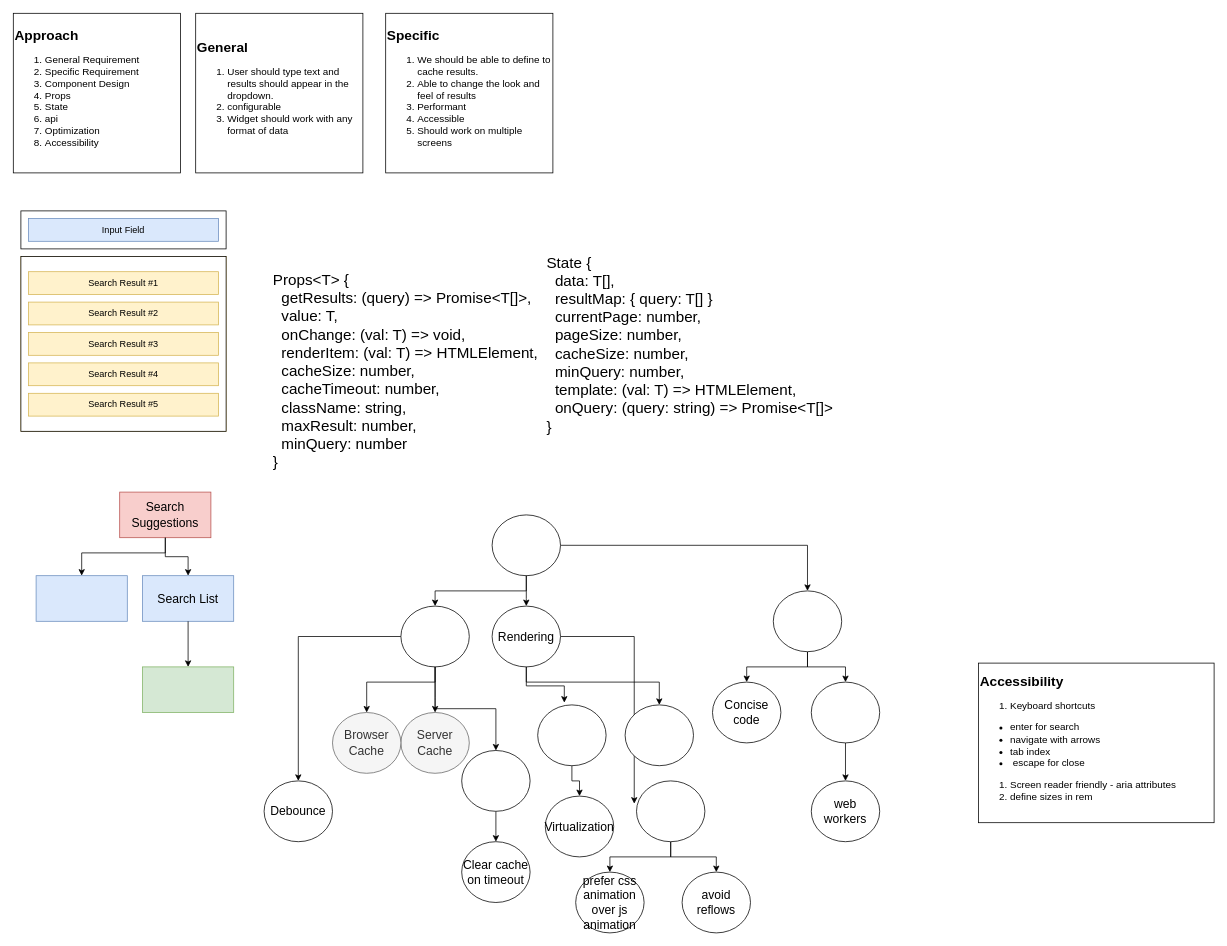
This 1227x946 diagram has some shape labels left out. Here are the shapes that lost their labels. From the top down, the centre of each, then its label:
At (525,545): "Optimizations".
At (81,598): "Search input".
At (434,636): "Network".
At (807,621): "Javascript".
At (188,689): "List Item".
At (845,712): "async operations".
At (571,735): "DOM".
At (659,735): "Loader / Spinner".
At (495,780): "Component Cache".
At (670,811): "CSS".
